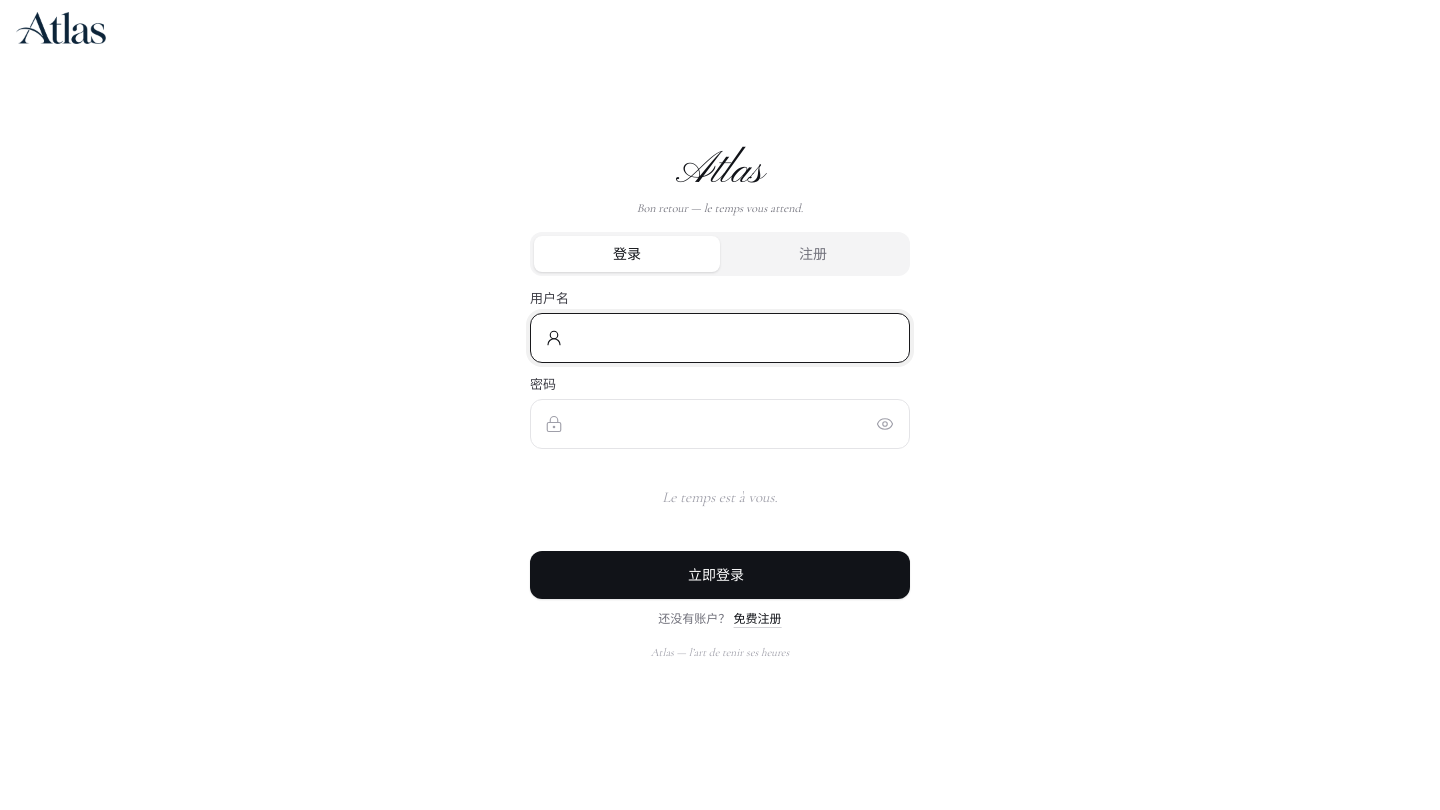
Test: AuthGate component › restores the registration form when the request fails
The image size is (1440, 810).
Click the button "注册": click(813, 254) [720,236,906,272]
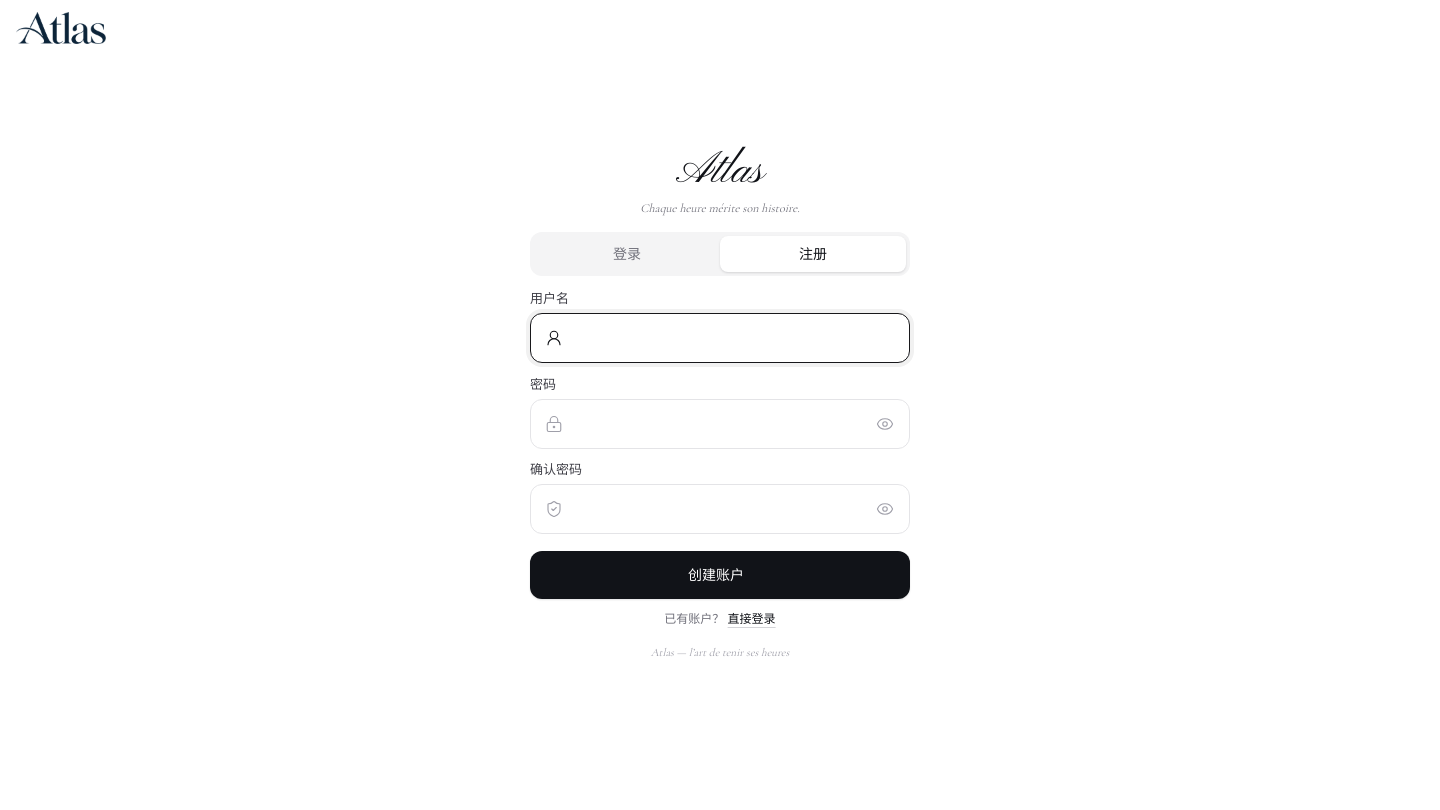
In the field labelled "用户名": (720, 338) [531,314,909,362], type "bob"
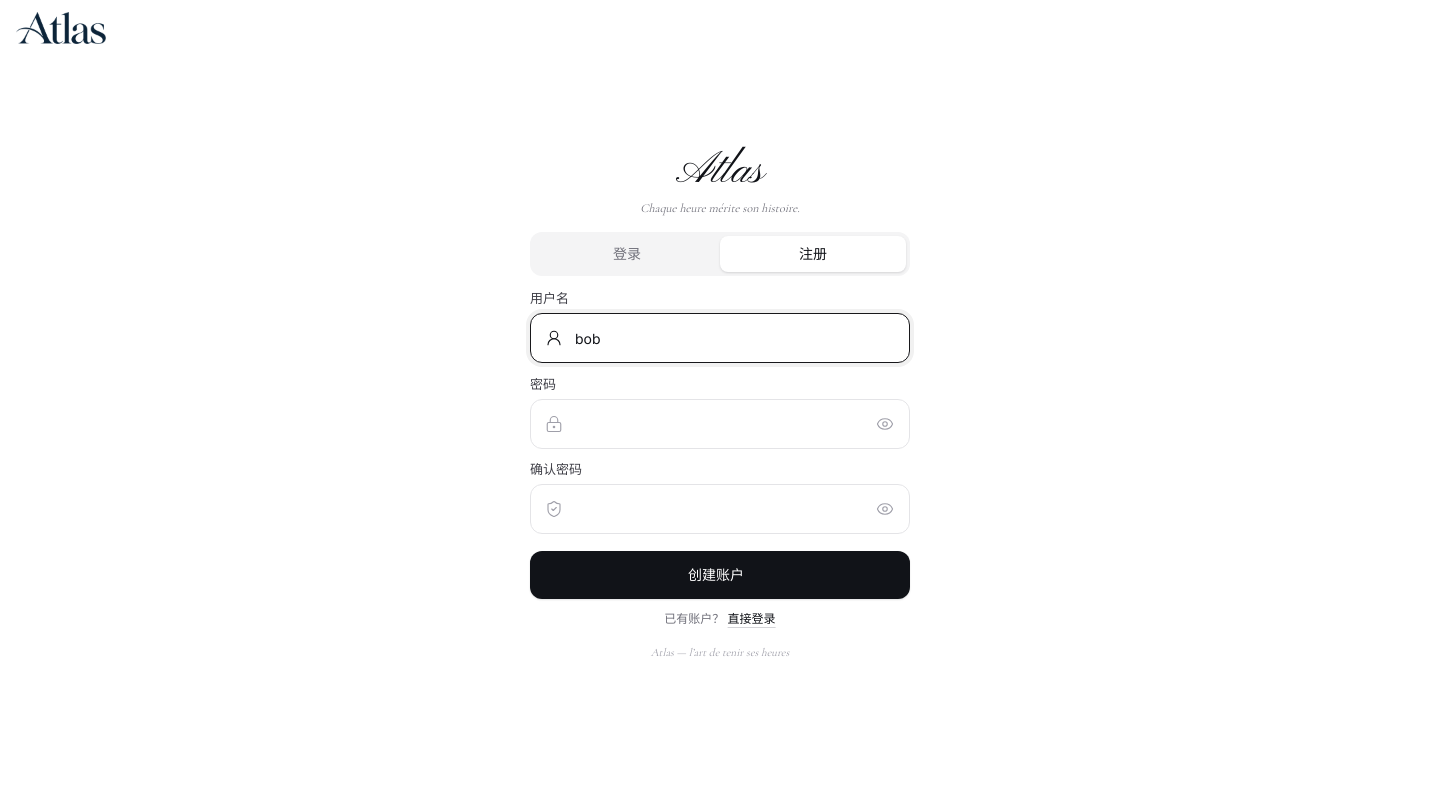
In the password field labelled "密码": (720, 424) [531,400,909,448], type "password123"
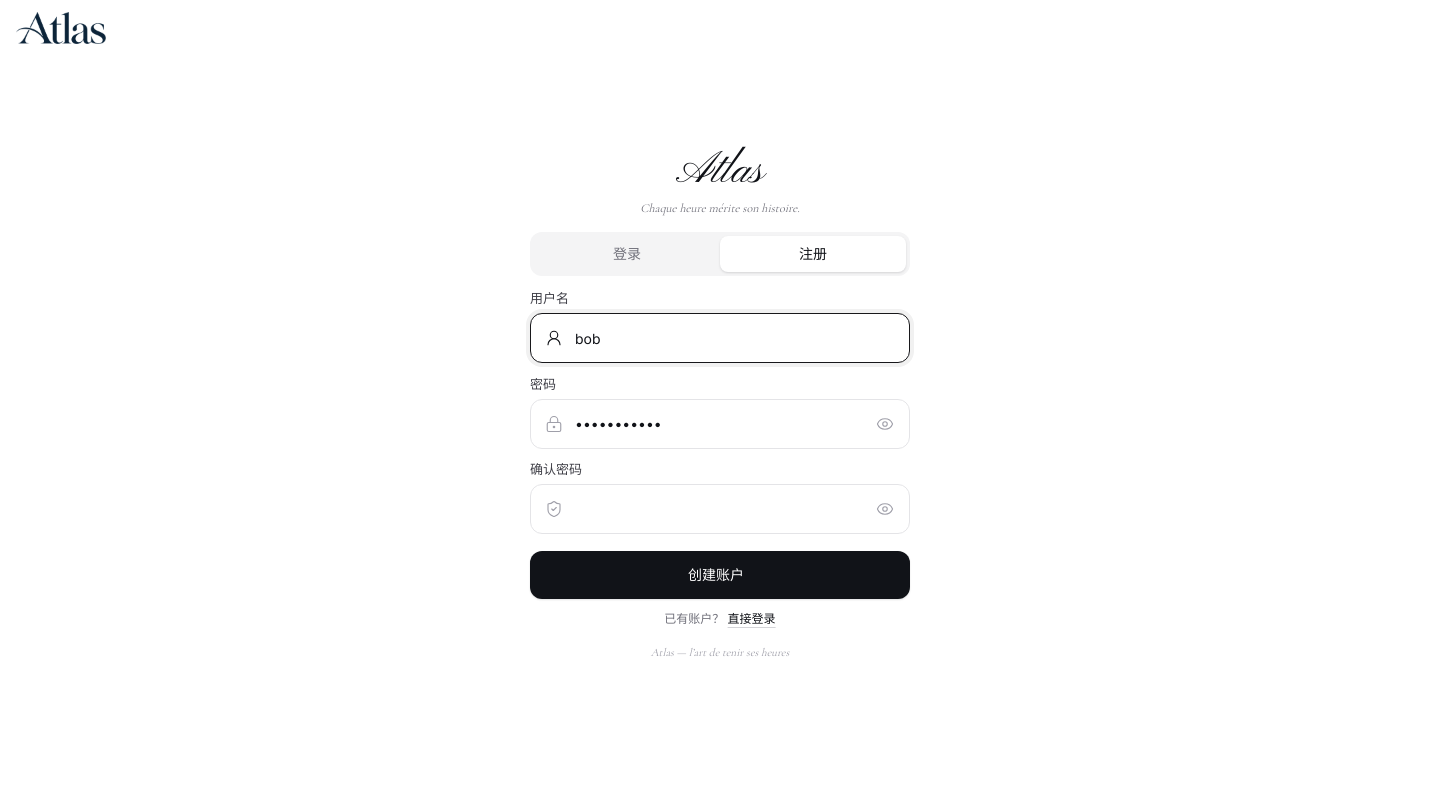
In the password field labelled "确认密码": (720, 509) [531,485,909,533], type "password123"
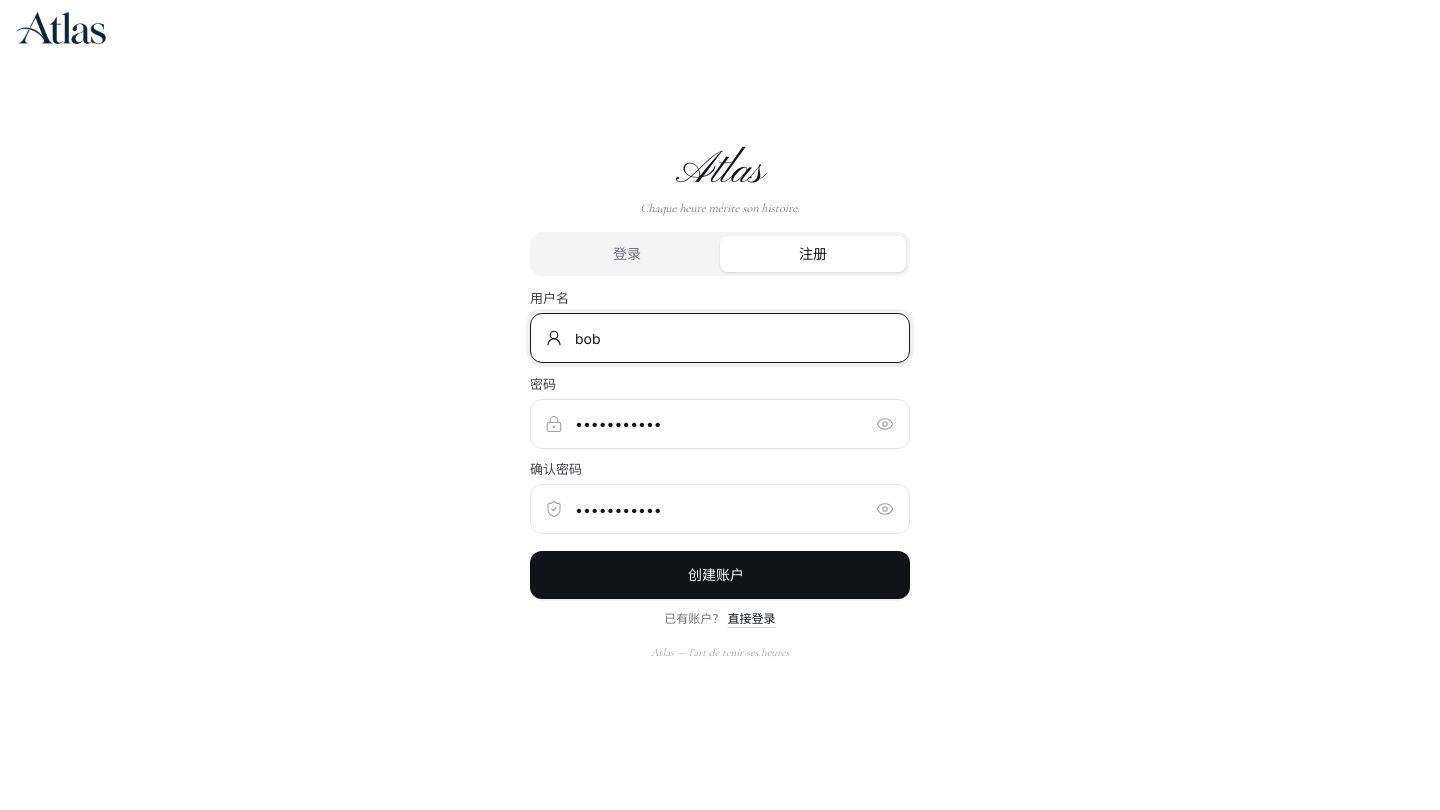
Click the button "创建账户": click(720, 574) [530,550,910,598]
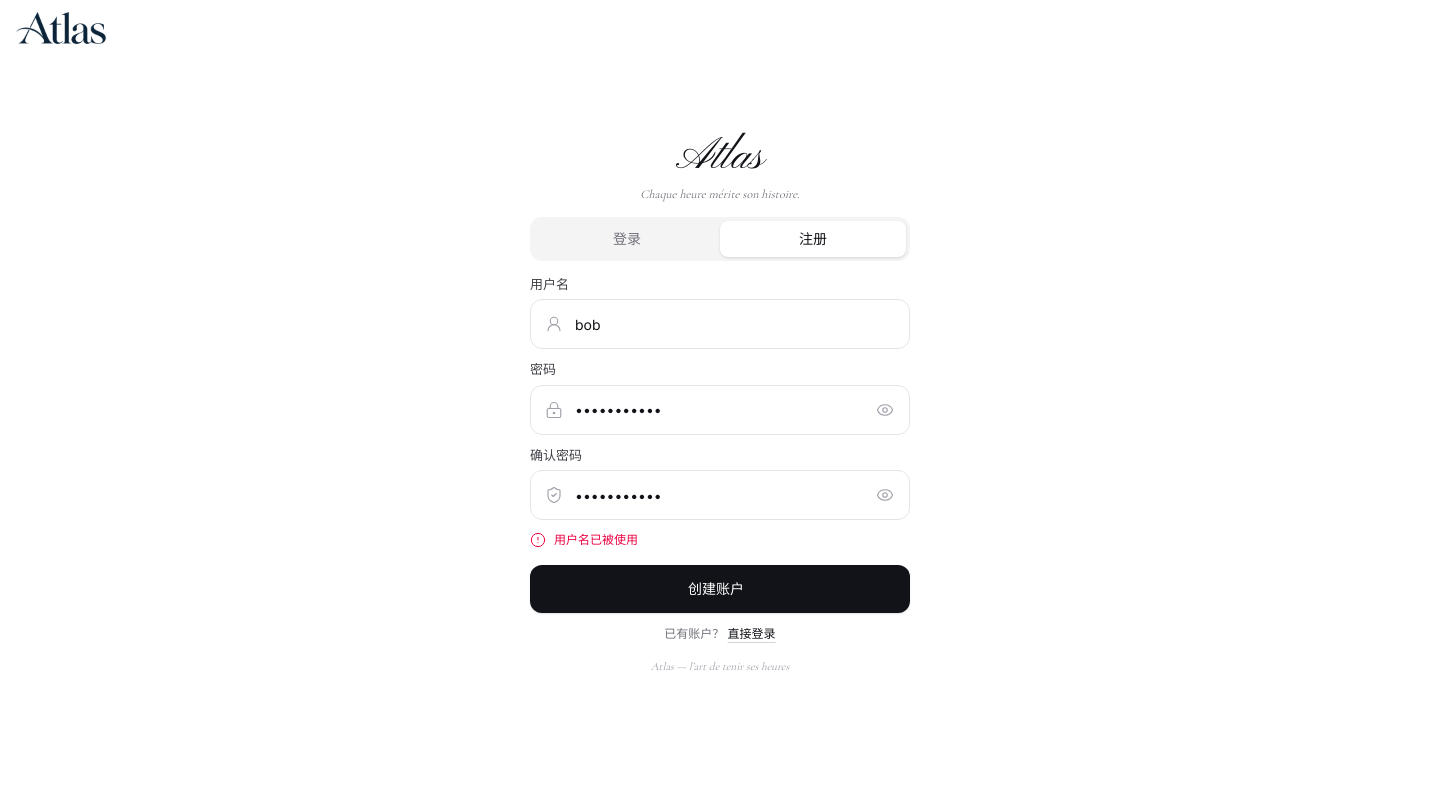
expect the button "登录" is enabled: met, box [534,221,720,257]
expect the message reads "用户名已被使用": met, box [554,532,638,547]
